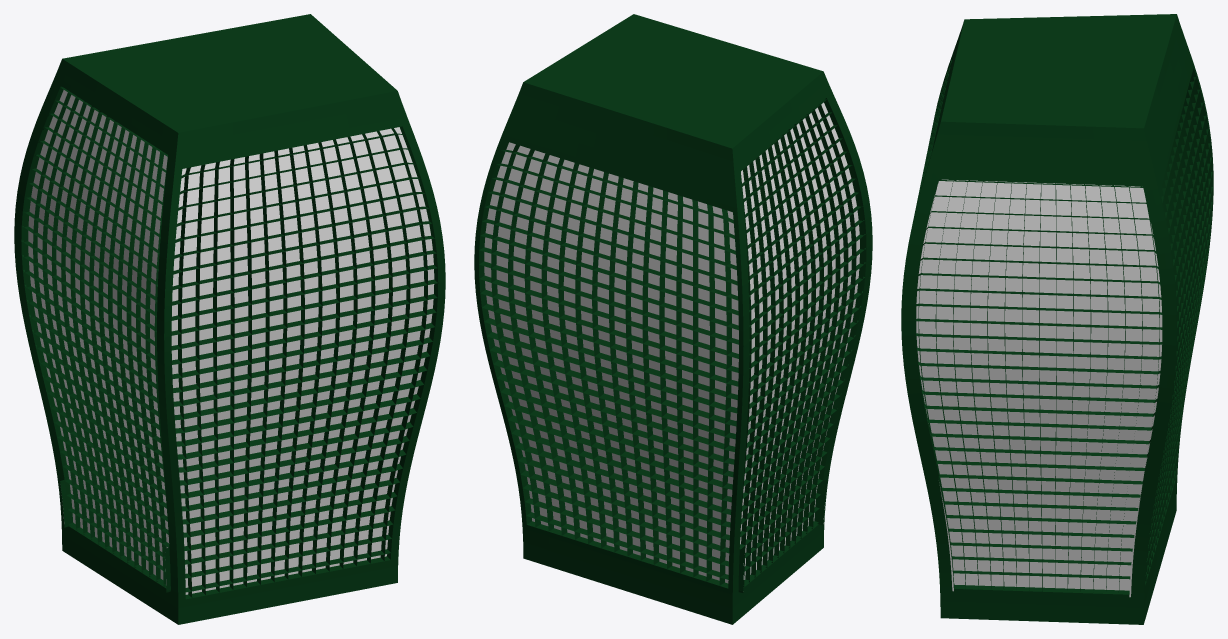
Rendered from TwoHalifax.fbx.
3 views of the same model, side by side, from view 1: azimuth 30°, elevation 25°; view 2: azimuth 150°, elevation 25°; view 3: azimuth 270°, elevation 25° (orthographic). The views are drawn at different scales.
Visible parts, largest first — view 1: TwoHalifax; view 2: TwoHalifax; view 3: TwoHalifax.
Part boxes in pixels (x1=…): TwoHalifax: x1=14, y1=14, x2=445, y2=624; TwoHalifax: x1=474, y1=14, x2=872, y2=624; TwoHalifax: x1=901, y1=14, x2=1213, y2=624.
Size of the model in its own units: 6300 by 10000 by 5701.
